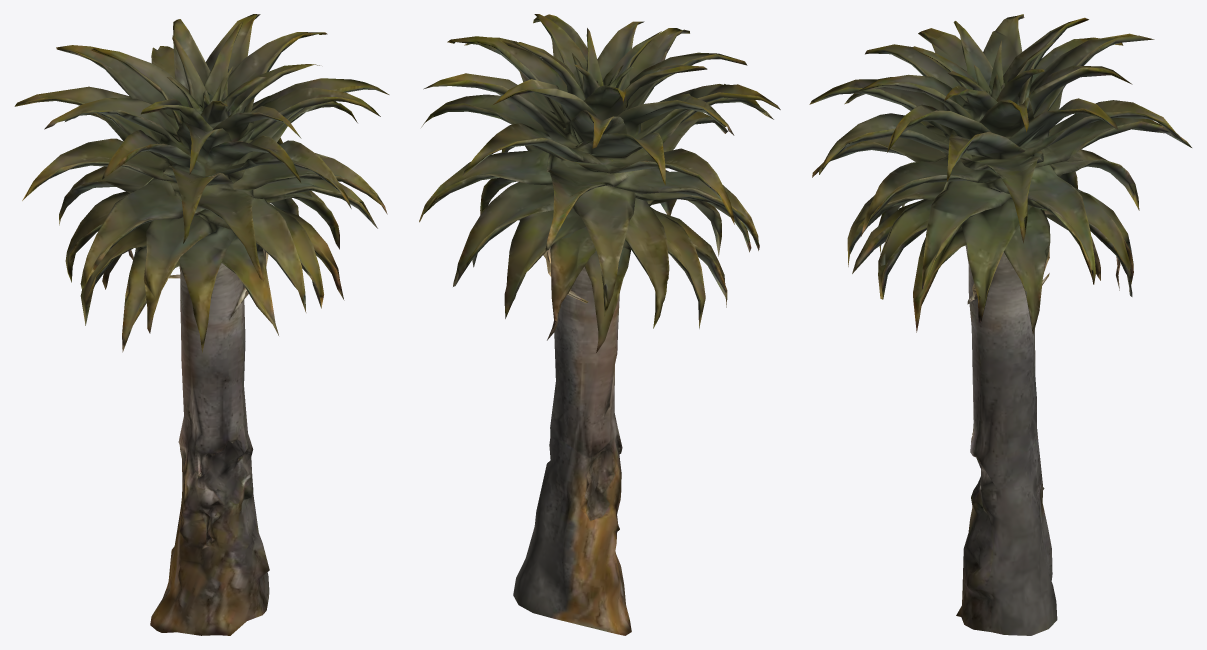
File: quiver-tree-02.lod1.glb
The picture shows the model from 3 angles, left to right: view 1: azimuth 30°, elevation 25°; view 2: azimuth 150°, elevation 25°; view 3: azimuth 270°, elevation 25°; orthographic projection.
Parts seen in each view (by area): view 1: quiver_tree_02; view 2: quiver_tree_02; view 3: quiver_tree_02.
Boxes of the visible parts, box(x1,y1,x2,y2) form: quiver_tree_02: box(14, 14, 389, 635); quiver_tree_02: box(419, 14, 780, 635); quiver_tree_02: box(809, 14, 1191, 635).
Size of the model in its own units: 0.8696 by 1.47 by 0.8806.
Materials: 1 (1 with a texture image).
